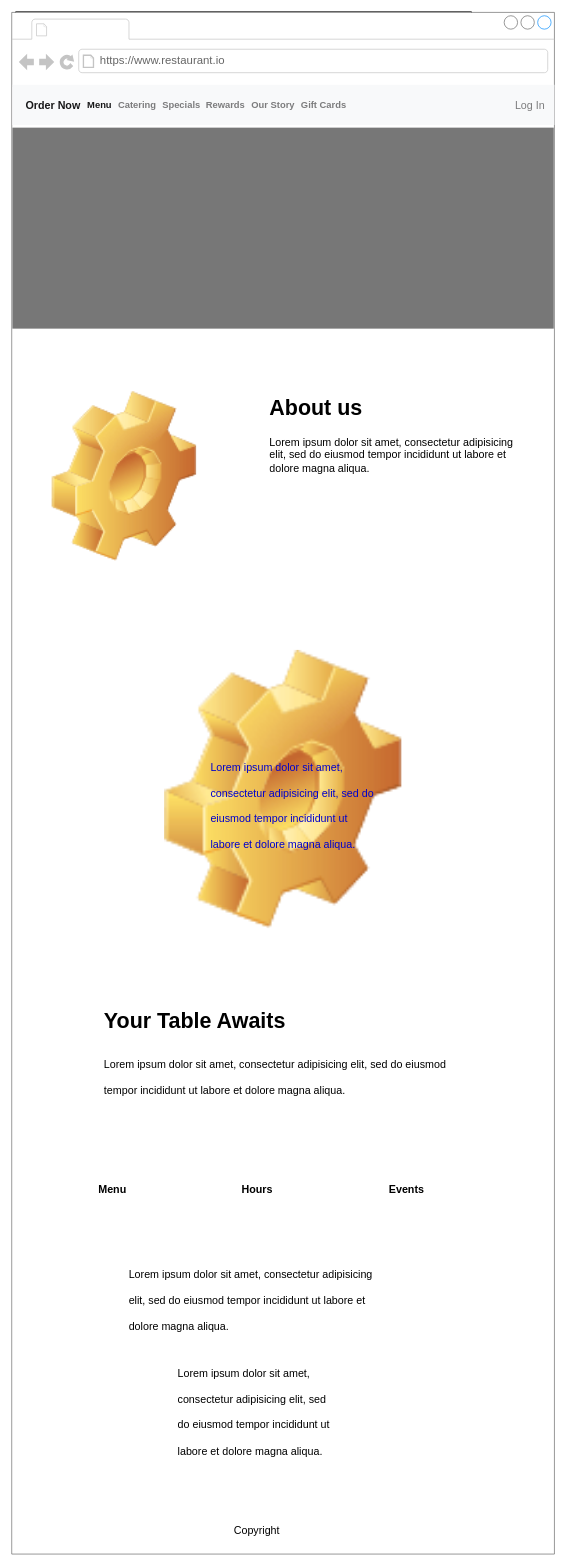
Image size: 566x1566. Some labels were removed from this diagram. The centre of each missing label's shape, as x and y in pixels:
"First slide" goes at (x=282, y=227).
"Page 1" goes at (x=88, y=29).
